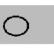no answer: (2, 15, 30, 37)
